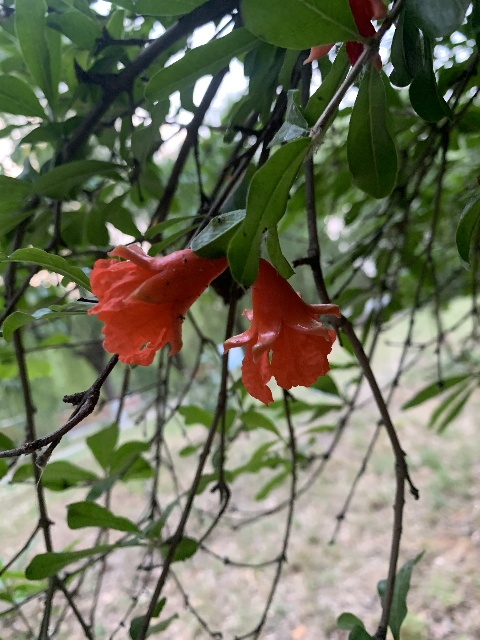flower: (86, 242, 226, 366), (223, 258, 340, 405)
